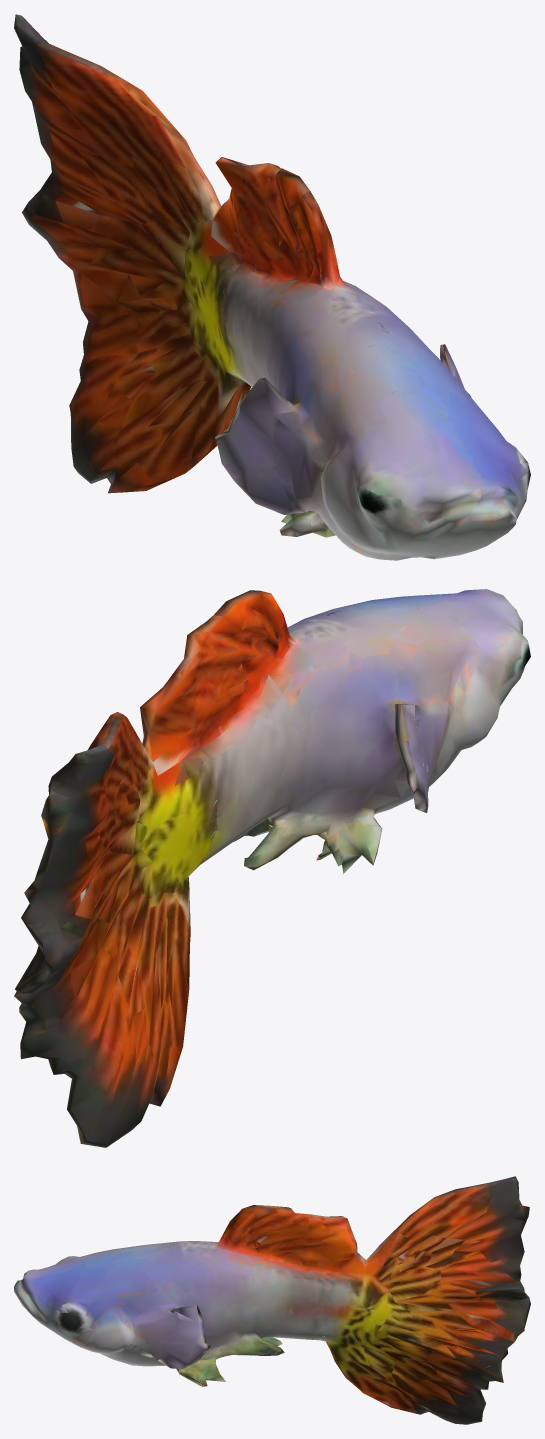
The model's file is strain-japan_red_mosaic.lo.glb.
3 views of the same model, one above another, from view 1: azimuth 30°, elevation 25°; view 2: azimuth 150°, elevation 25°; view 3: azimuth 270°, elevation 25° (orthographic). The views are drawn at different scales.
Visible parts, largest first — view 1: Mesh_0.001; view 2: Mesh_0.001; view 3: Mesh_0.001.
Part boxes in pixels (x1,y1,x2,y2): Mesh_0.001: (14, 14, 530, 560); Mesh_0.001: (14, 589, 530, 1147); Mesh_0.001: (14, 1176, 530, 1424).
Bounding box in the file's own units: 0.0114 × 0.019 × 0.0367.
2 materials, 2 textured.
